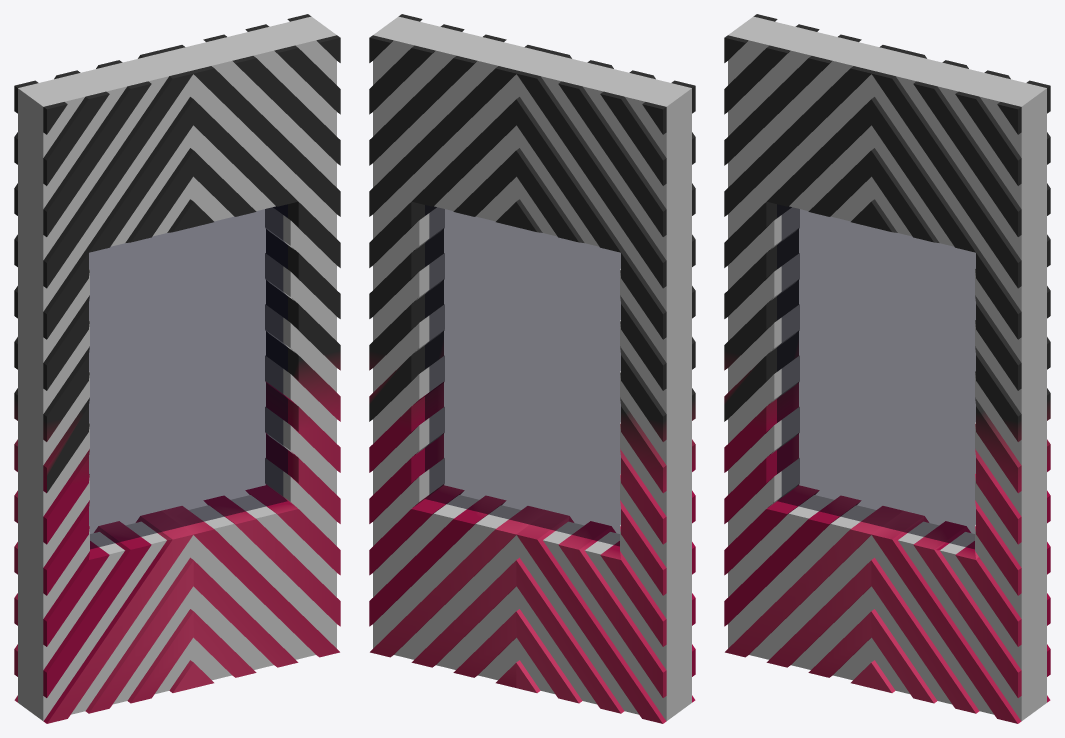
Rendered from ArrowWindow.glb.
3 renders of one model, left to right at view 1: azimuth 30°, elevation 25°; view 2: azimuth 150°, elevation 25°; view 3: azimuth 330°, elevation 25°, orthographic.
Parts seen in each view (by area): view 1: wall_arrow_window; view 2: wall_arrow_window; view 3: wall_arrow_window.
Part boxes in pixels (x1,y1,x2,y2): wall_arrow_window: (14, 14, 340, 723); wall_arrow_window: (369, 14, 695, 723); wall_arrow_window: (724, 14, 1050, 723).
Size of what is drawn, in the model's own units: 2 by 4 by 0.3827.
Materials: 2 (2 with a texture image).
